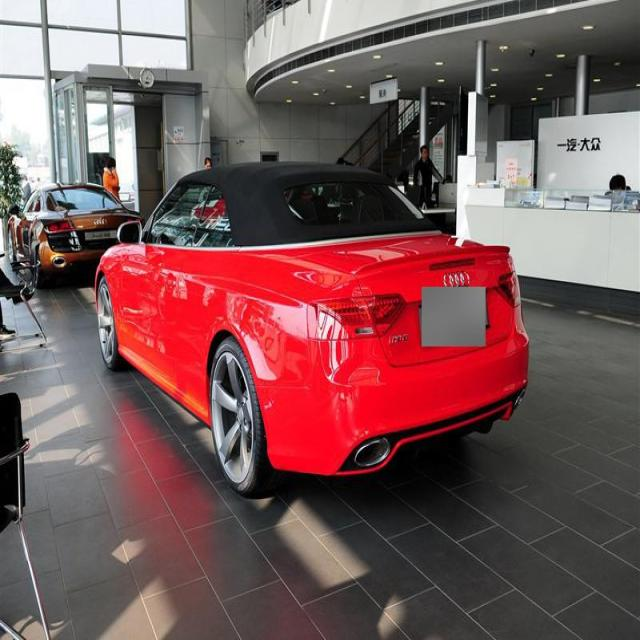back_glass: (278, 176, 424, 227)
back_left_side_light: (306, 290, 407, 344)
back_right_side_light: (494, 270, 524, 306)
front_left_side_door: (123, 172, 214, 390)
front_left_side_mirror: (117, 217, 144, 249)
rear_bumper: (266, 318, 532, 476)
wheel: (210, 336, 278, 497), (96, 277, 125, 368)
